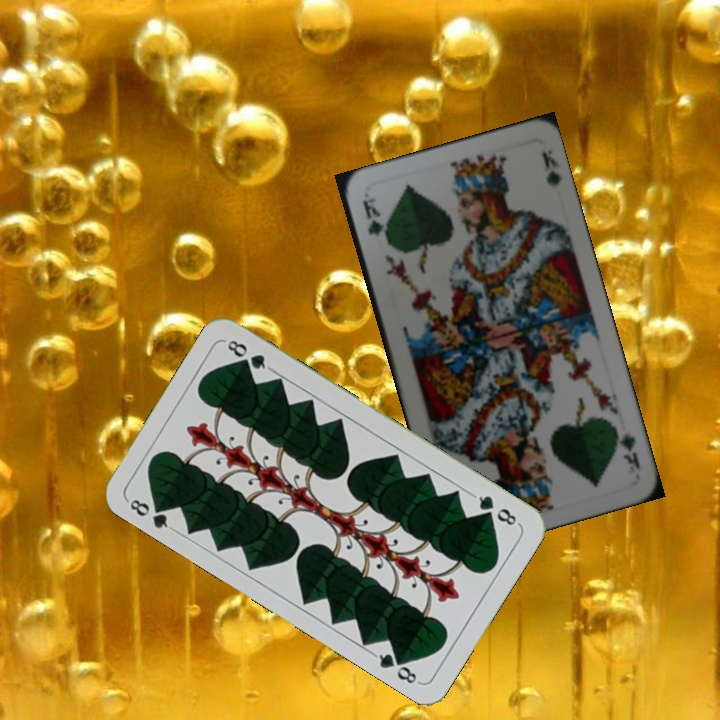G8: (123, 494, 176, 534), (469, 491, 522, 530)
GK: (608, 422, 643, 472), (358, 196, 385, 239)
